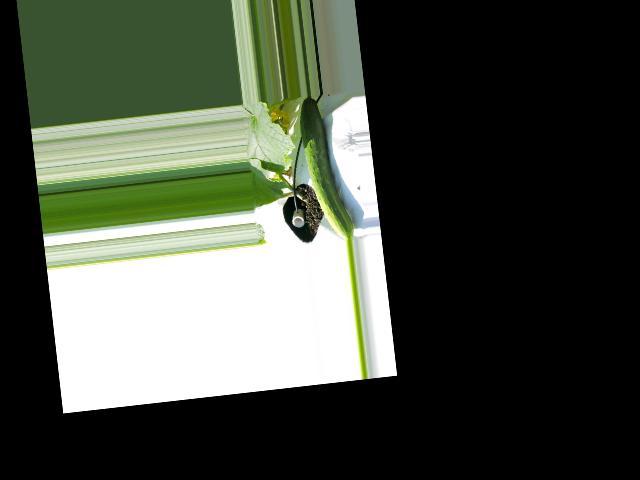cucumber: (297, 93, 355, 244)
